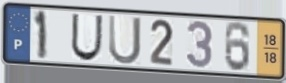1: (30, 8, 50, 61)
2: (148, 18, 175, 68)
3: (185, 19, 214, 70)
6: (223, 20, 252, 74)
U: (107, 13, 143, 67), (69, 12, 105, 63)
